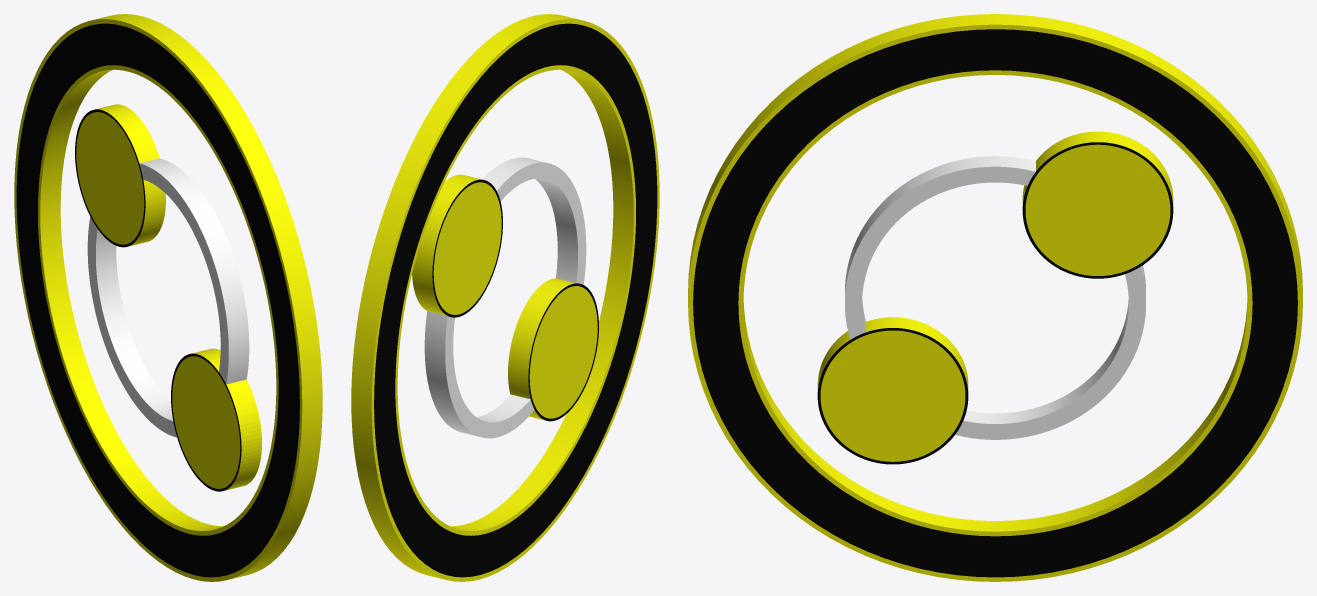
The model's file is track_collectable_advanced.dae.
3 renders of one model, left to right at view 1: azimuth 30°, elevation 25°; view 2: azimuth 150°, elevation 25°; view 3: azimuth 270°, elevation 25°, orthographic. The views are drawn at different scales.
Parts seen in each view (by area): view 1: Component_1 (×13); view 2: Component_1 (×12); view 3: Component_1 (×12).
Part boxes in pixels (x1,y1,x2,y2): Component_1 (×13): (14,14,322,581); Component_1 (×12): (351,14,659,581); Component_1 (×12): (688,14,1302,581).
Size of the model in its own units: 39.37 by 961 by 961.
